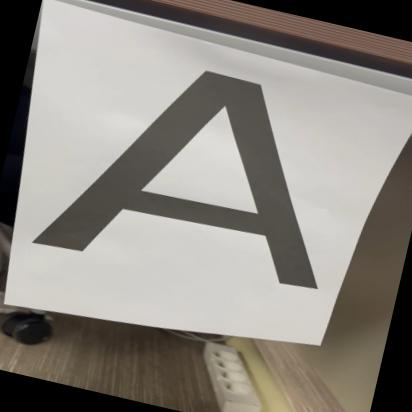seat: (25, 25, 381, 313)
